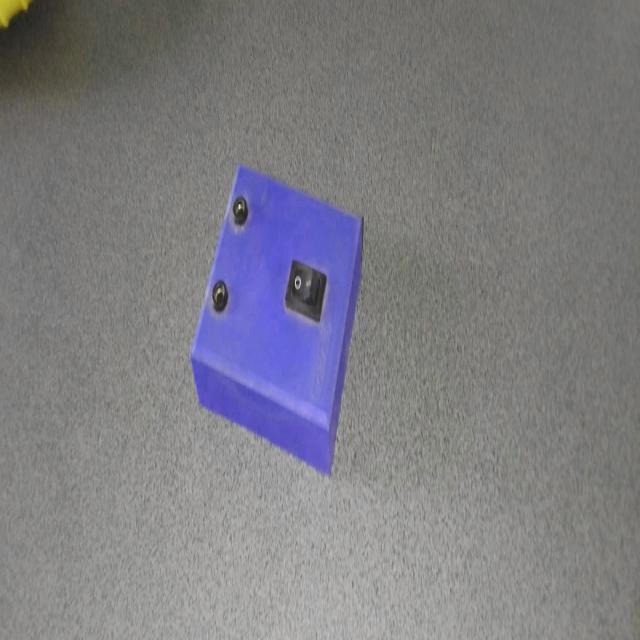ON-OFF Switch: (185, 157, 378, 497)
